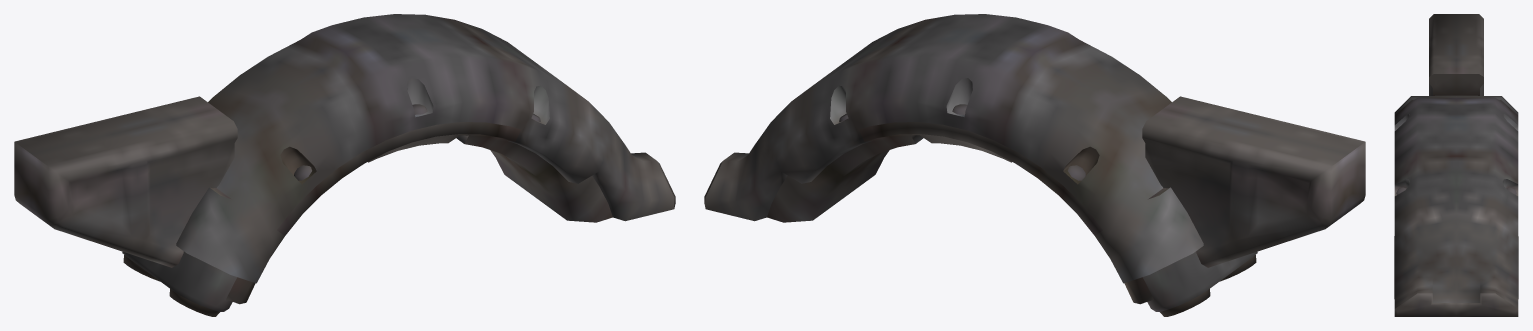
File: HeavyWeapons_Vladof_Shoulder_1.obj
3 views of the same model, side by side, from view 1: azimuth 30°, elevation 25°; view 2: azimuth 150°, elevation 25°; view 3: azimuth 270°, elevation 25° (orthographic). The views are drawn at different scales.
Visible parts, largest first — view 1: SK_HW_VLA.306, SK_HW_VLA.305; view 2: SK_HW_VLA.306, SK_HW_VLA.305; view 3: SK_HW_VLA.306, SK_HW_VLA.305.
Part boxes in pixels (left/top/right/bottom): SK_HW_VLA.306: left=122, top=14, right=675, bottom=311; SK_HW_VLA.305: left=14, top=96, right=237, bottom=267; SK_HW_VLA.306: left=704, top=14, right=1257, bottom=311; SK_HW_VLA.305: left=1142, top=96, right=1365, bottom=267; SK_HW_VLA.306: left=1394, top=95, right=1518, bottom=316; SK_HW_VLA.305: left=1429, top=14, right=1483, bottom=95.
Bounding box in the file's own units: 37.51 × 12.36 × 10.14.
